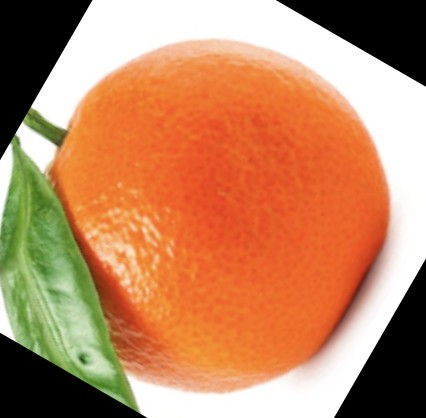fresh_orange: (43, 36, 392, 393)
